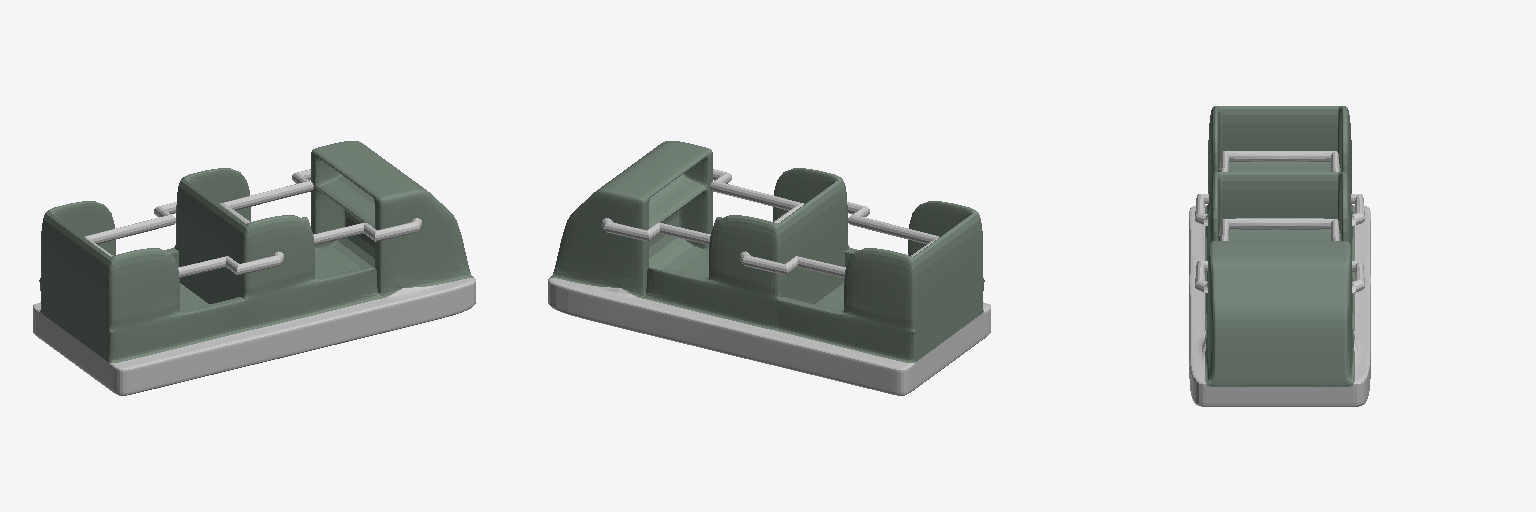
The picture shows the model from 3 angles: view 1: azimuth 30°, elevation 25°; view 2: azimuth 150°, elevation 25°; view 3: azimuth 270°, elevation 25°; orthographic projection.
Visible parts, largest first — view 1: Point_Point.001; view 2: Point_Point.001; view 3: Point_Point.001.
Part boxes in pixels (bbox=[...]): Point_Point.001: bbox=[33, 141, 475, 395]; Point_Point.001: bbox=[548, 141, 990, 395]; Point_Point.001: bbox=[1189, 106, 1370, 406].
Size of the model in its own units: 5.07 by 1.77 by 2.2.
Materials: 3 (1 with a texture image).